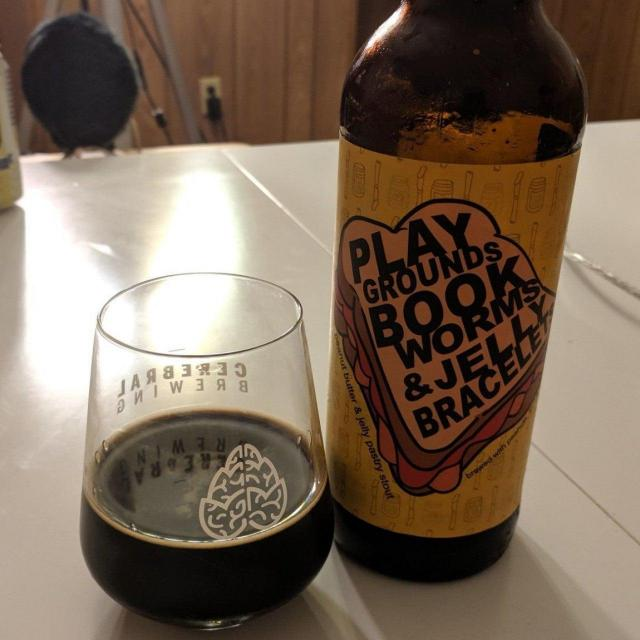non-organic waste: (338, 0, 586, 584), (75, 270, 336, 632)
